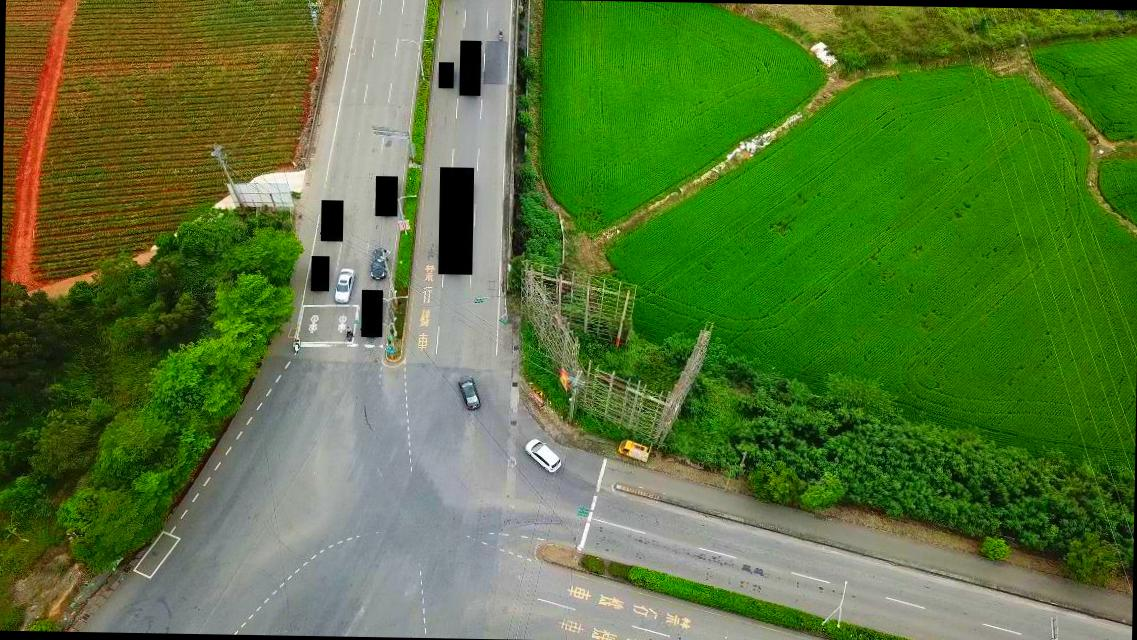vehicle: (525, 436, 561, 475), (456, 374, 481, 411), (333, 268, 356, 304), (617, 438, 648, 462), (368, 247, 390, 280)
